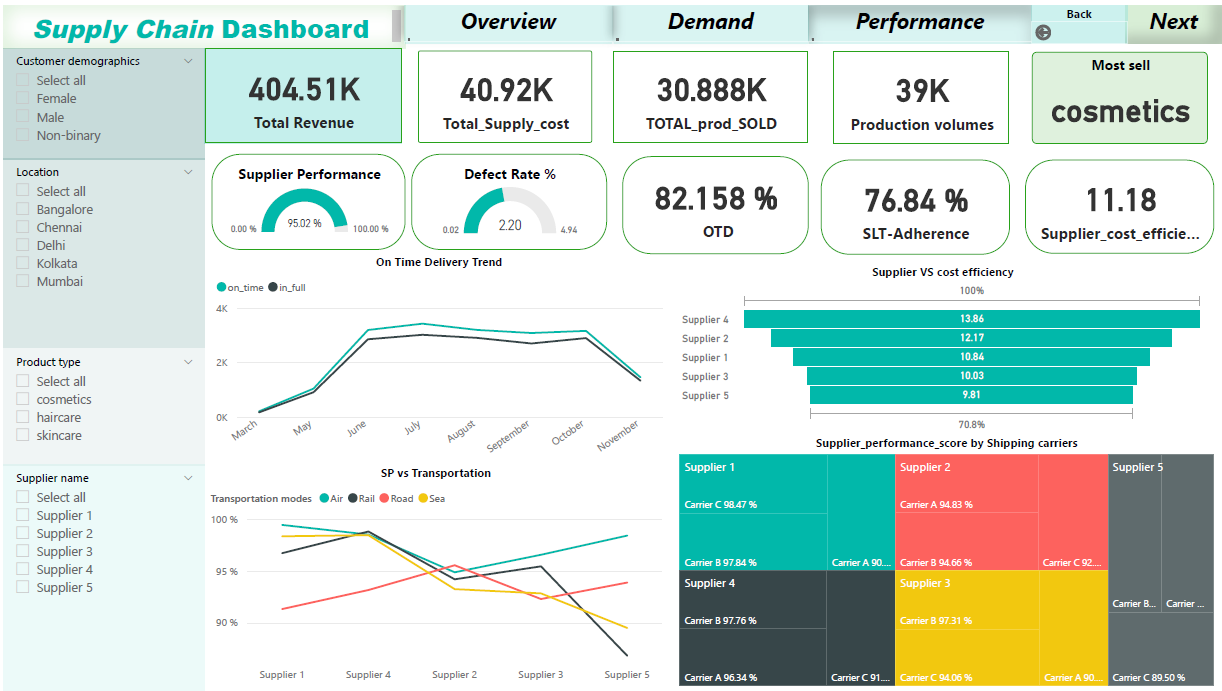

What the dashboard file says about the page in this screenshot:
{"tool":"powerbi","page":{"name":"Supplier Performance","canvas":[1280,720],"ordinal":2},"visuals":[{"type":"textbox","box":[0,0,421.7,45],"z":0},{"type":"card","fields":{"Values":["processed_data.Total Revenue"]},"box":[211.4,44.3,207.1,100],"z":1000},{"type":"gauge","title":"Defect Rate %","fields":{"Y":["Measure.Defect_rate"],"MinValue":["Measure.Defect rates min per Defect rates"],"MaxValue":["Measure.Defect rates max per Defect rates"]},"box":[428.6,155.7,205.7,101.4],"z":2000},{"type":"card","fields":{"Values":["Sum(processed_data.Production volumes)"]},"box":[871.7,46.7,185,98.3],"z":3000},{"type":"card","fields":{"Values":["Measure.TOTAL SOLD"]},"box":[640,46.7,205,96.7],"z":4000},{"type":"card","title":"Most sell","fields":{"Values":["Min(processed_data.Product type)"]},"box":[1080,48.3,185,96.7],"z":5000},{"type":"actionButton","title":"Next","box":[1180,0,100,40],"z":6000},{"type":"card","fields":{"Values":["Measure.SLT-Adherence"]},"box":[858.6,161.4,198.6,100],"z":7000},{"type":"card","fields":{"Values":["Measure.OTD"]},"box":[650,158.6,195.7,102.9],"z":8000},{"type":"card","fields":{"Values":["Measure.Total_Supply_cost"]},"box":[435,46.7,183.3,96.7],"z":9000},{"type":"slicer","fields":{"Values":["processed_data.Customer demographics"]},"box":[0,44.3,211.4,117.1],"z":10000},{"type":"slicer","fields":{"Values":["processed_data.Location"]},"box":[0,160,211.4,198.6],"z":11000},{"type":"slicer","fields":{"Values":["processed_data.Product type"]},"box":[0,360,211.4,122.9],"z":12000},{"type":"slicer","fields":{"Values":["processed_data.Supplier name"]},"box":[0,482.9,211.4,237.1],"z":13000},{"type":"actionButton","title":"Demand","box":[640,0,205,40],"z":14000},{"type":"actionButton","title":"Performance","box":[845,0,235,40],"z":15000},{"type":"actionButton","title":"Overview","box":[421.4,0,218.6,40],"z":16000},{"type":"funnel","title":"Supplier VS cost efficiency ","fields":{"Y":["Measure.Supplier_cost_efficiency"],"Category":["processed_data.Supplier name"]},"box":[707.9,271.6,558.4,179.7],"z":17000},{"type":"gauge","title":"Supplier Performance","fields":{"Y":["Measure.Supplier_performance_score"]},"box":[218.6,155.7,204.3,101.4],"z":18000},{"type":"card","fields":{"Values":["Measure.Supplier_cost_efficiency"]},"box":[1072.8,161.9,198.9,98.8],"z":19000},{"type":"lineChart","title":"On Time Delivery Trend","fields":{"Category":["fact_orders_aggregate.order_placement_date.Variation.Date Hierarchy.Month","fact_orders_aggregate.order_placement_date.Variation.Date Hierarchy.Day"],"Y":["Sum(fact_orders_aggregate.on_time)","Sum(fact_orders_aggregate.in_full)"]},"box":[218.1,260.7,478.8,222.3],"z":20000},{"type":"lineChart","title":"SP vs Transportation","fields":{"Category":["processed_data.Supplier name"],"Y":["Measure.Supplier_performance_score"],"Series":["processed_data.Transportation modes"]},"box":[212.6,482.9,484.3,237.3],"z":21000},{"type":"treemap","title":"Supplier_performance_score by Shipping carriers ","fields":{"Values":["Measure.Supplier_performance_score"],"Group":["processed_data.Supplier name"],"Details":["processed_data.Shipping carriers"]},"box":[705.7,451.4,571.4,268.6],"z":22000},{"type":"actionButton","title":"Back","box":[1080,0,100,40],"z":23000}]}

Visuals, with their boxes in screenshot pixels (x1, y1, x2, y2), scaled from the page's 1280x720 canvas onto the 1222x691 screenshot:
textbox: 0/0/403/43
card - processed_data.Total Revenue: 202/43/400/138
"Defect Rate %" gauge: 409/149/606/247
card - Sum(processed_data.Production volumes): 832/45/1009/139
card - Measure.TOTAL SOLD: 611/45/807/138
"Most sell" card: 1031/46/1208/139
"Next" actionButton: 1127/0/1221/38
card - Measure.SLT-Adherence: 820/155/1009/251
card - Measure.OTD: 621/152/807/251
card - Measure.Total_Supply_cost: 415/45/590/138
slicer - processed_data.Customer demographics: 0/43/202/155
slicer - processed_data.Location: 0/154/202/344
slicer - processed_data.Product type: 0/346/202/463
slicer - processed_data.Supplier name: 0/463/202/690
"Demand" actionButton: 611/0/807/38
"Performance" actionButton: 807/0/1031/38
"Overview" actionButton: 402/0/611/38
"Supplier VS cost efficiency " funnel: 676/261/1209/433
"Supplier Performance" gauge: 209/149/404/247
card - Measure.Supplier_cost_efficiency: 1024/155/1214/250
"On Time Delivery Trend" lineChart: 208/250/665/464
"SP vs Transportation" lineChart: 203/463/665/690
"Supplier_performance_score by Shipping carriers " treemap: 674/433/1219/690
"Back" actionButton: 1031/0/1127/38
